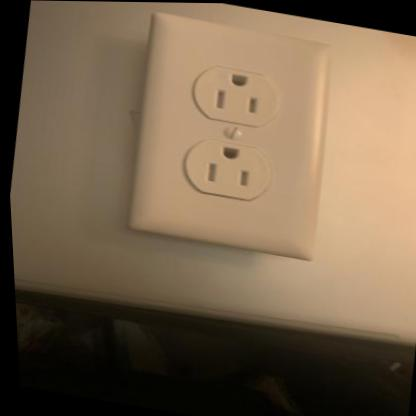OUTLET: (119, 11, 345, 257)
